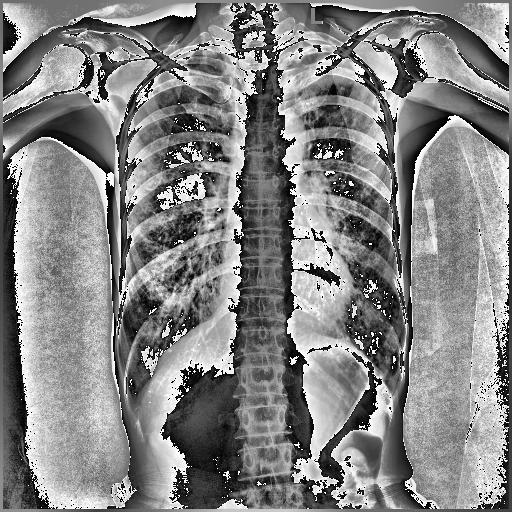10- Pleural effusion: (120, 388, 143, 416), (384, 371, 402, 400)
11- Pleural thickening: (120, 388, 143, 416), (384, 371, 402, 400)
13- Pulmonary fibrosis: (130, 146, 224, 336), (316, 142, 400, 346)
5- ILD: (122, 105, 234, 394), (292, 88, 401, 368), (300, 88, 400, 377), (124, 110, 227, 386), (130, 146, 224, 336), (316, 142, 400, 346)
9- Other lesion: (130, 146, 224, 336), (316, 142, 400, 346)
